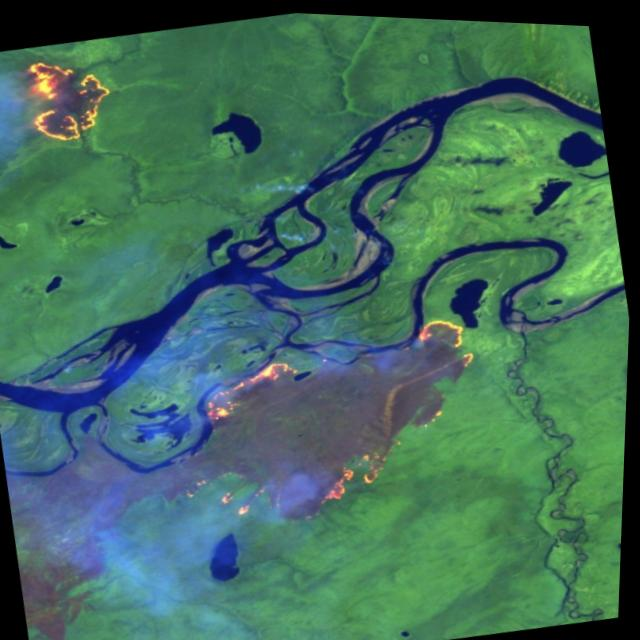fire: (169, 296, 503, 532), (6, 40, 127, 153)
